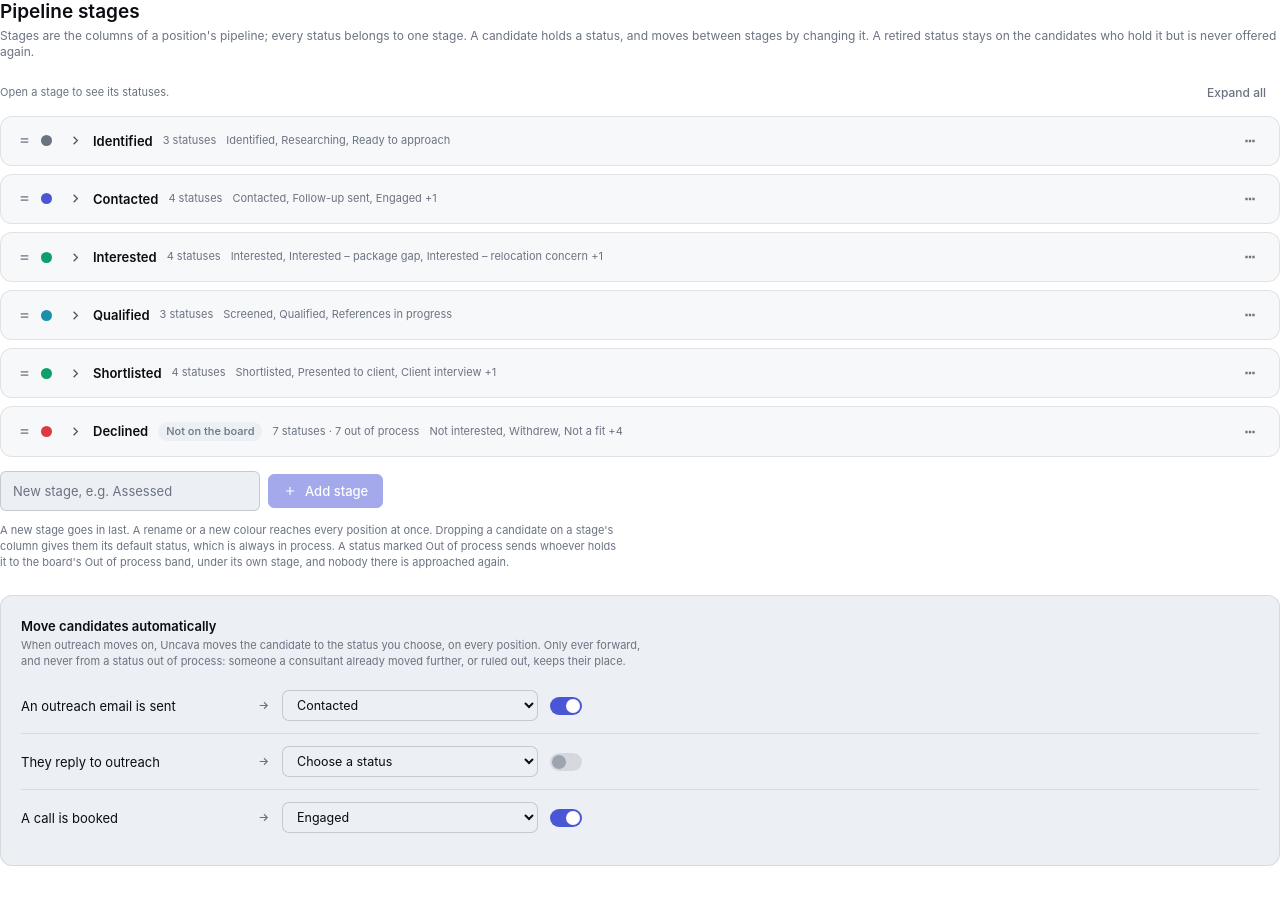
Scenario: PipelineStagesPage › opens only the stage that was added when another appeared meanwhile
Expected: the element "Identified" is shown, [0, 116, 1279, 166]
Type "assessed" into the field labelled "New stage" at (130, 491), box [0, 471, 260, 511]
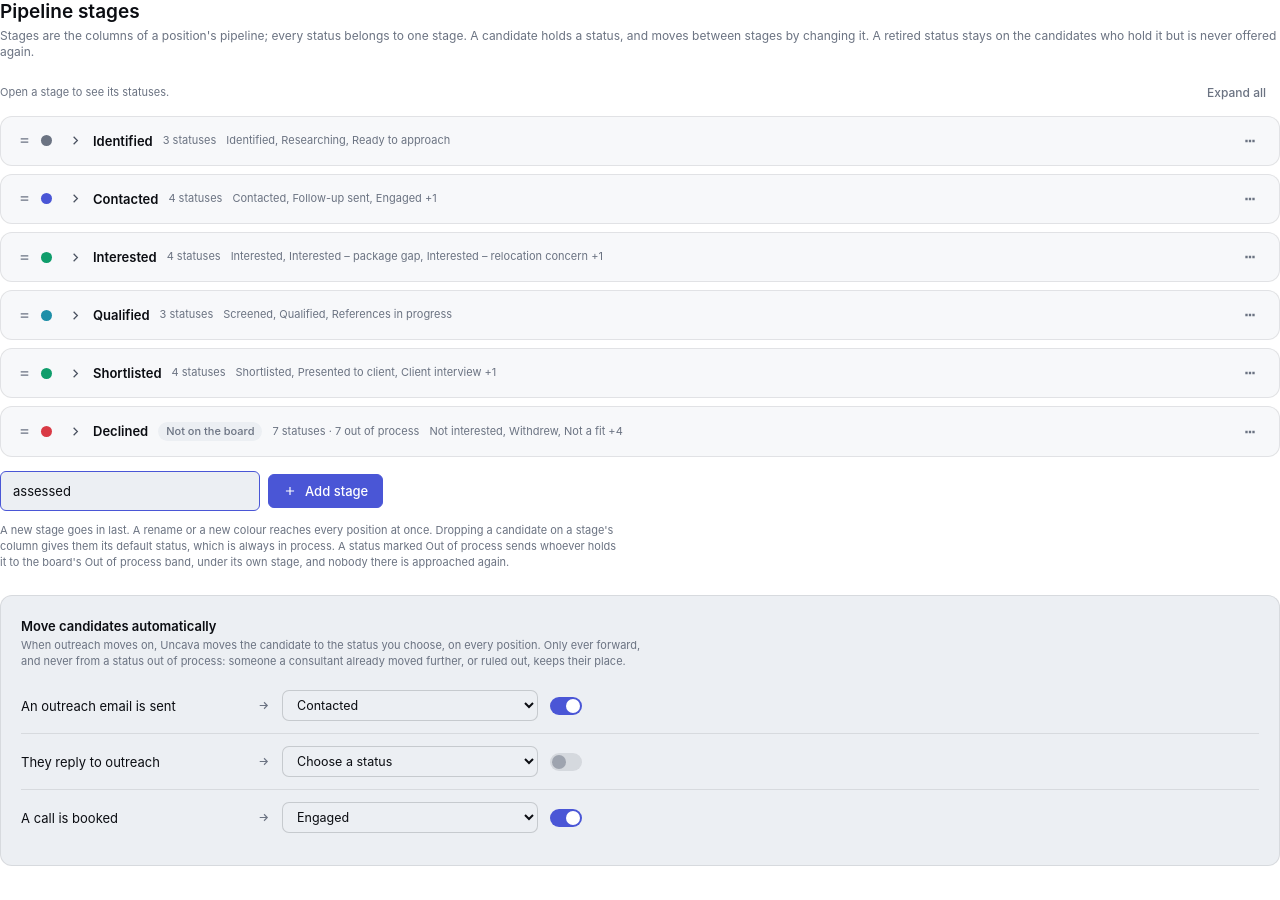
Click the button "Add stage" at (326, 491), box [268, 474, 383, 508]
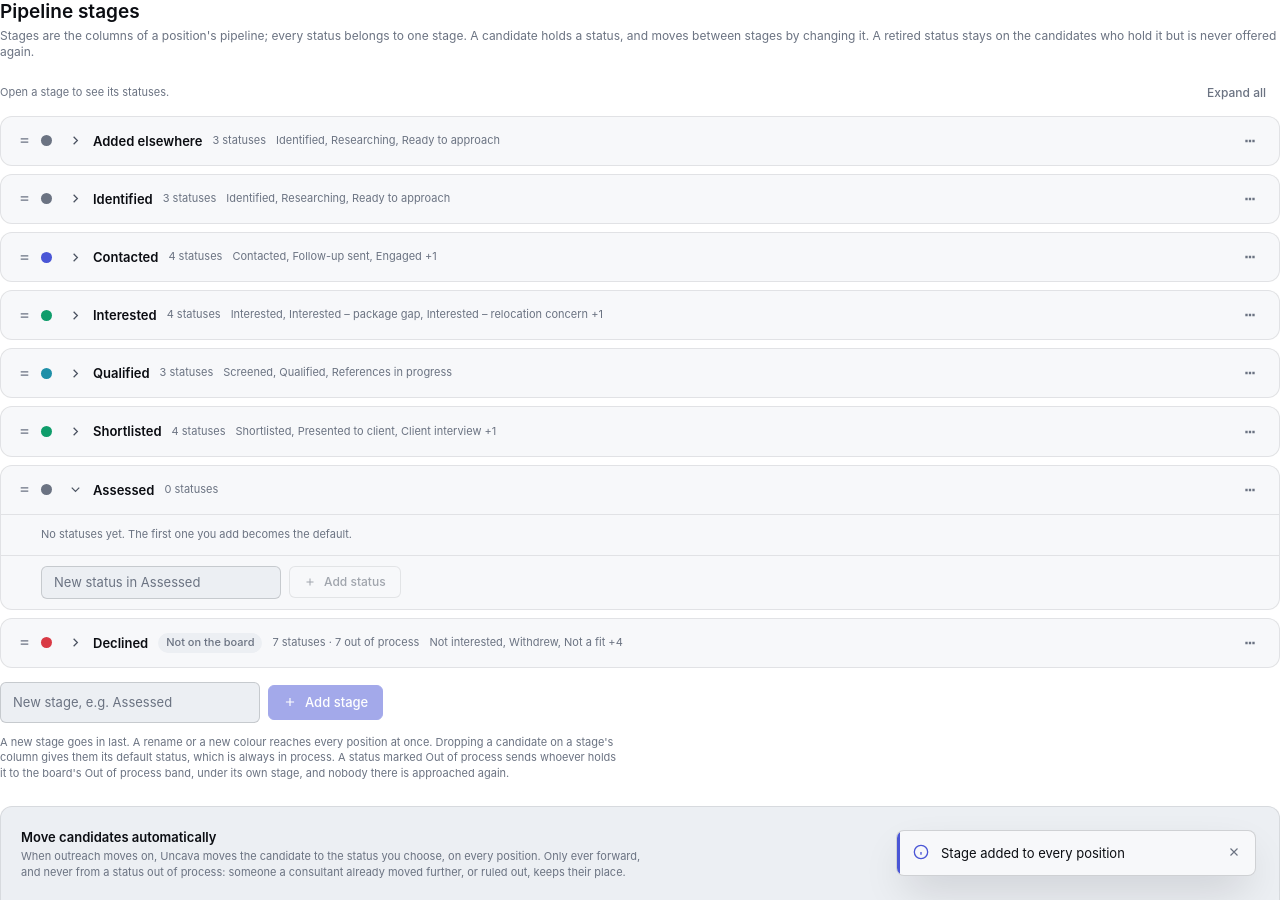
Now the element "Assessed" is shown, box [0, 465, 1279, 610]
